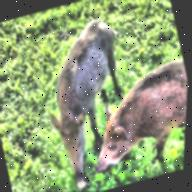boar: (4, 0, 157, 178), (73, 52, 189, 177)
